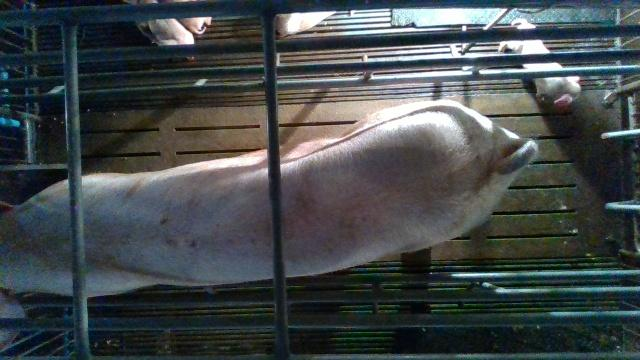piglet: (499, 18, 581, 107), (128, 0, 194, 45)
sow-stand-feed: (0, 97, 536, 354)
